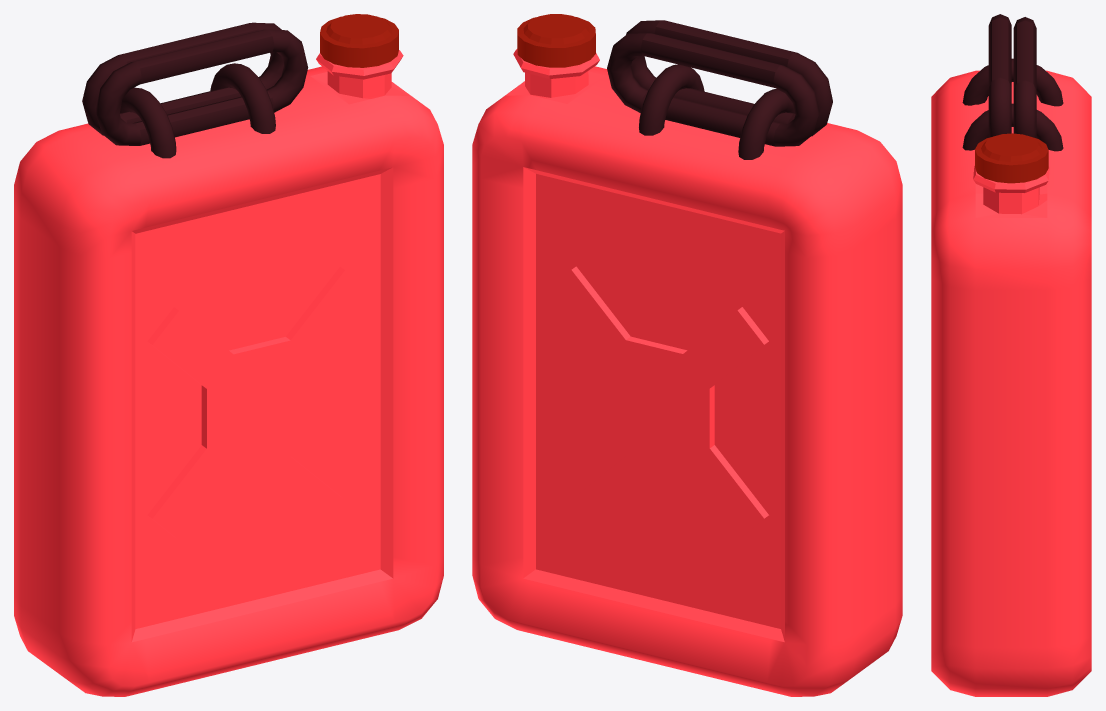
3 renders of one model, left to right at view 1: azimuth 30°, elevation 25°; view 2: azimuth 150°, elevation 25°; view 3: azimuth 270°, elevation 25°, orthographic. The views are drawn at different scales.
Parts seen in each view (by area): view 1: ChamferBox001, Box001, Torus001, Cylinder001; view 2: ChamferBox001, Box002, Torus001, Cylinder001; view 3: ChamferBox001, Torus001, Cylinder001.
Boxes of the visible parts, box(x1,y1,x2,y2) form: ChamferBox001: box(14, 50, 443, 696); Box001: box(147, 266, 371, 539); Torus001: box(82, 22, 308, 158); Cylinder001: box(320, 14, 398, 67); ChamferBox001: box(472, 49, 902, 696); Box002: box(545, 266, 768, 539); Torus001: box(607, 20, 832, 159); Cylinder001: box(517, 14, 595, 67); ChamferBox001: box(931, 70, 1091, 696); Torus001: box(962, 14, 1063, 151); Cylinder001: box(975, 133, 1048, 183).
Bounding box in the file's own units: 70.54 × 109 × 28.02.
